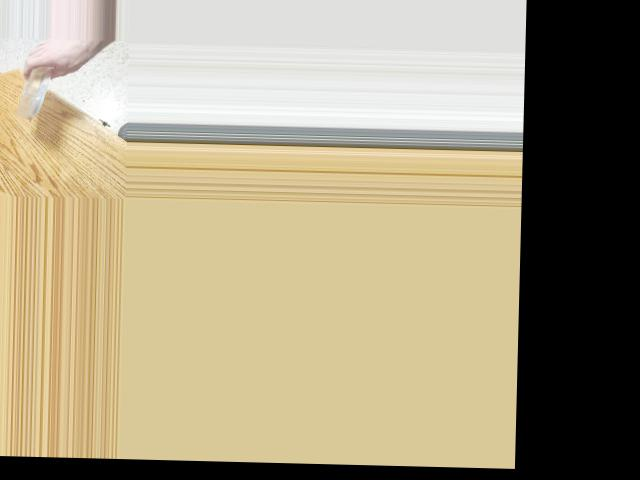cheese: (12, 65, 54, 112)
